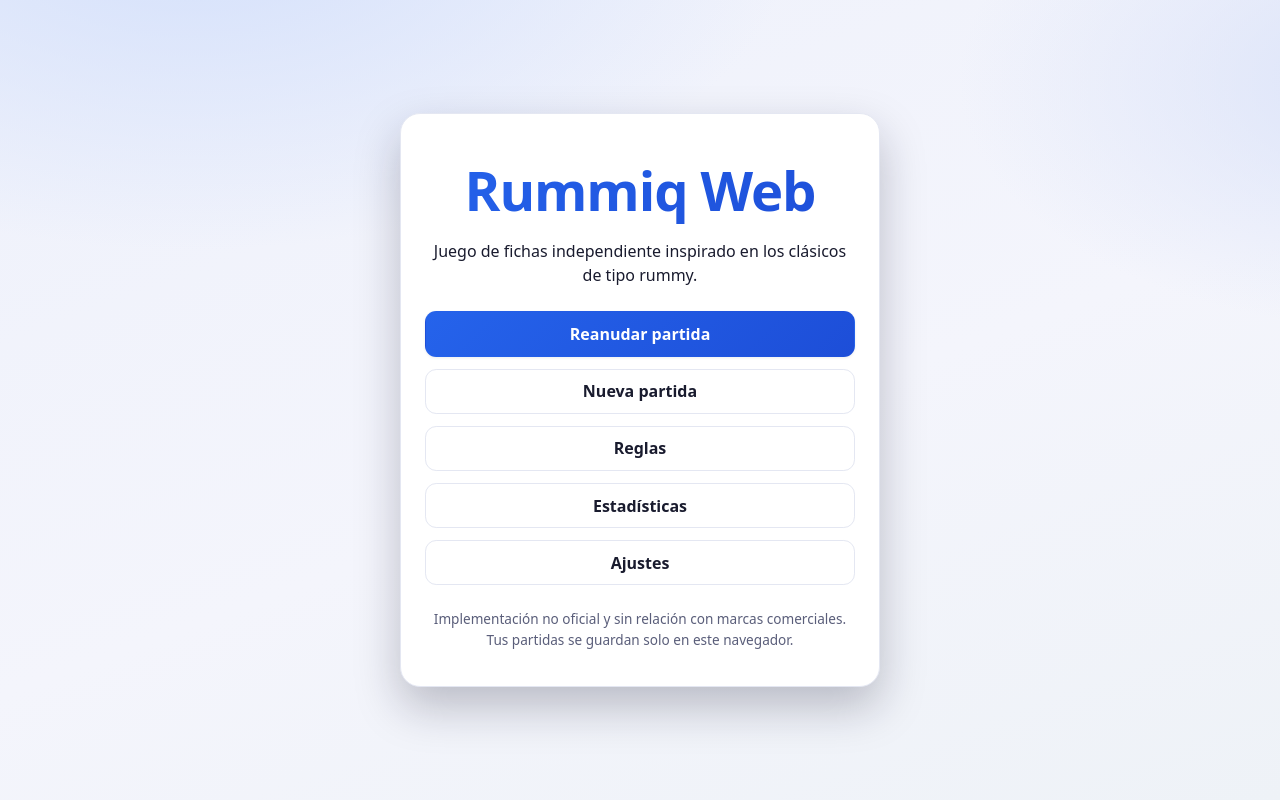
Scenario: Inicio con partida guardada › ofrece reanudar y pide confirmación antes de descartar
Expected: the button "Reanudar partida" is shown, [425,311,855,357]
// «Nueva partida» abre un diálogo de confirmación.
Click the button "Nueva partida".
click(640, 391)  # box [425,369,855,414]
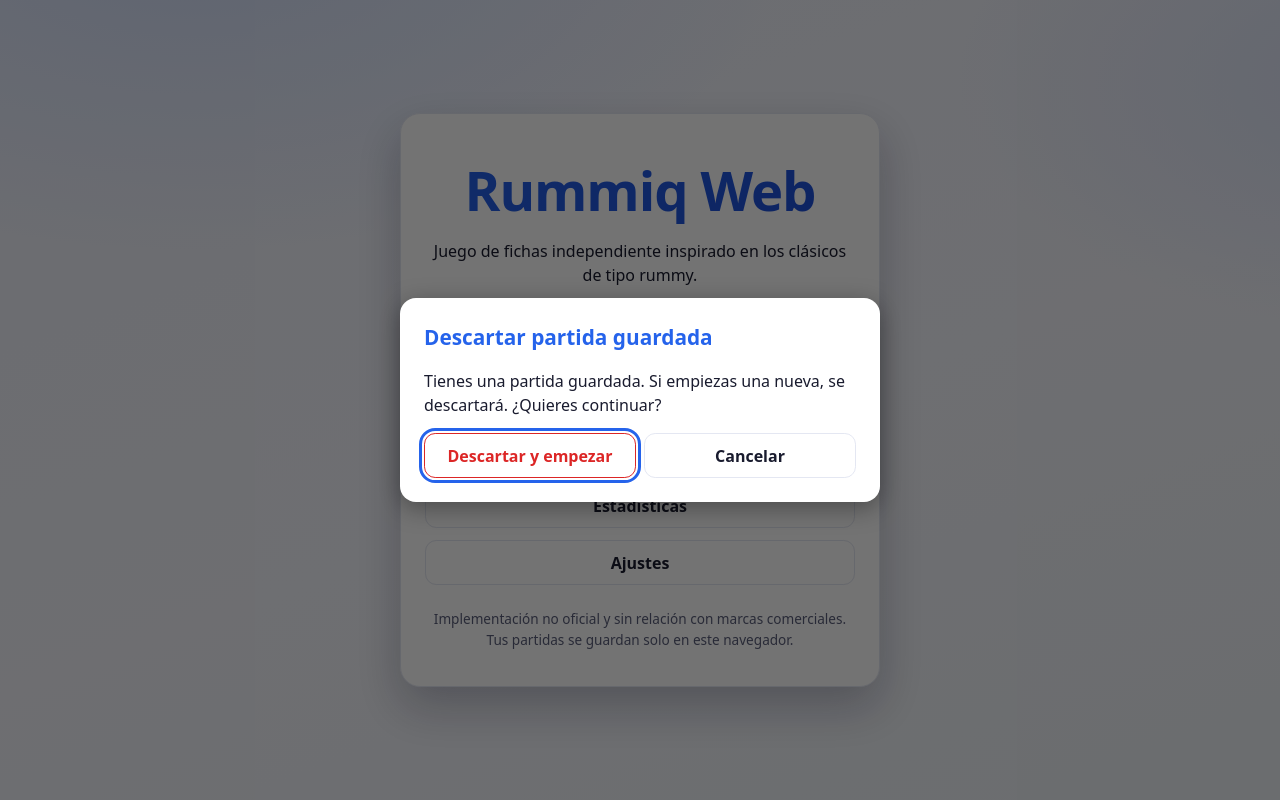
Expected: the dialog shows "Descartar", [424,323,713,351]
// Cancelar cierra el diálogo sin salir del inicio.
Click the button "Cancelar".
click(750, 456)  # box [644,433,856,478]
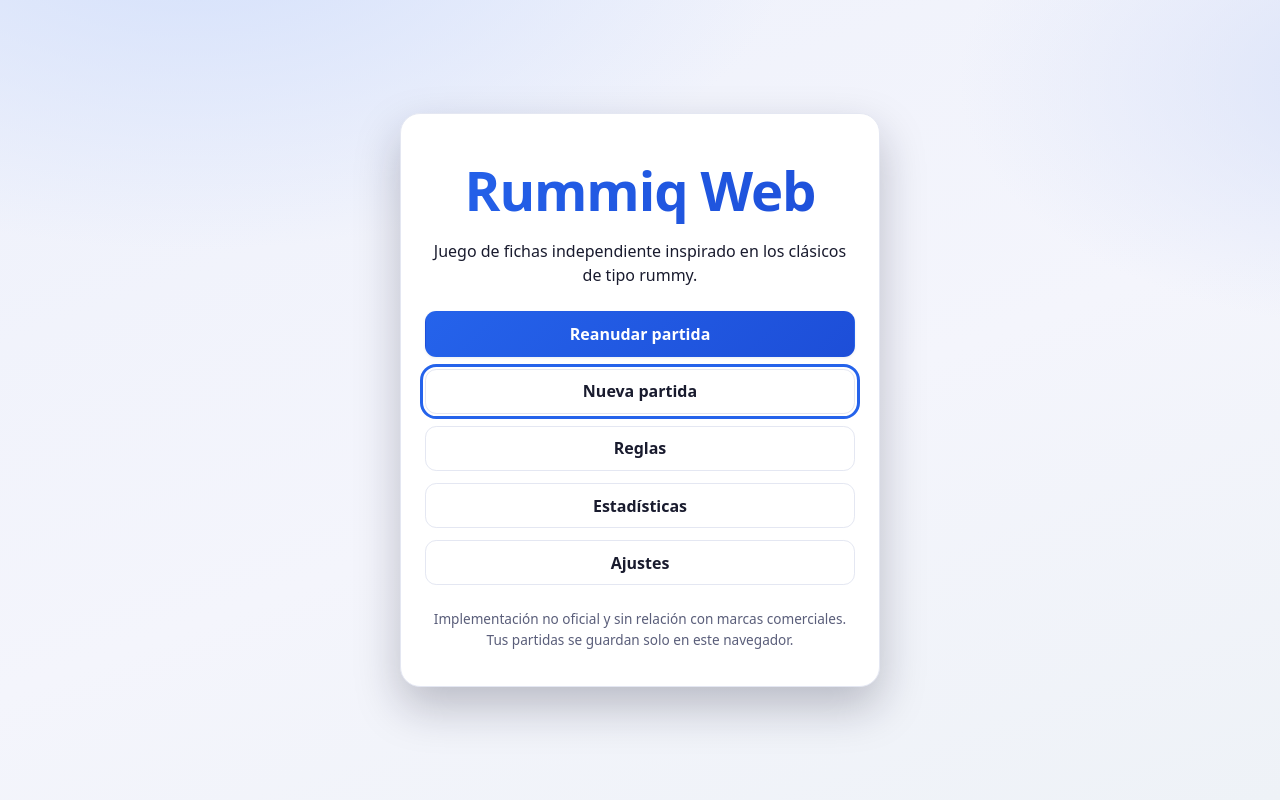
Expected: the heading "Rummiq Web" is shown, [425,150,855,231]
Expected: the dialog is gone
